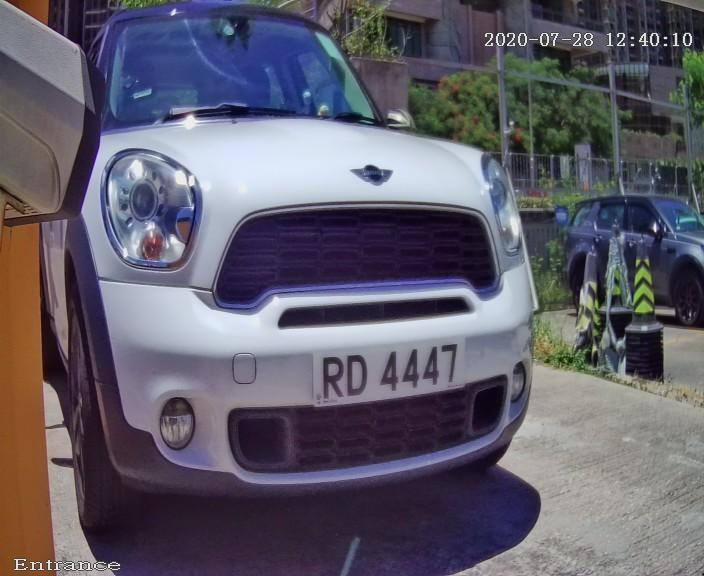privatecar: (32, 8, 598, 566)
